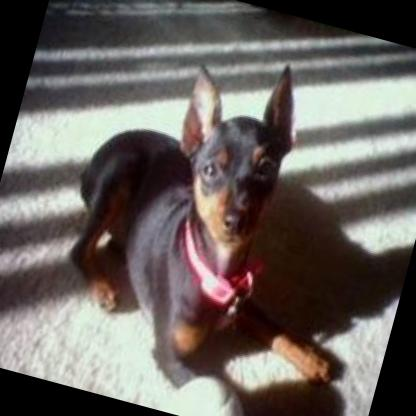miniature_pinscher: (37, 23, 408, 416)
